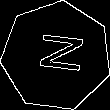N_W: (29, 33, 84, 80)
